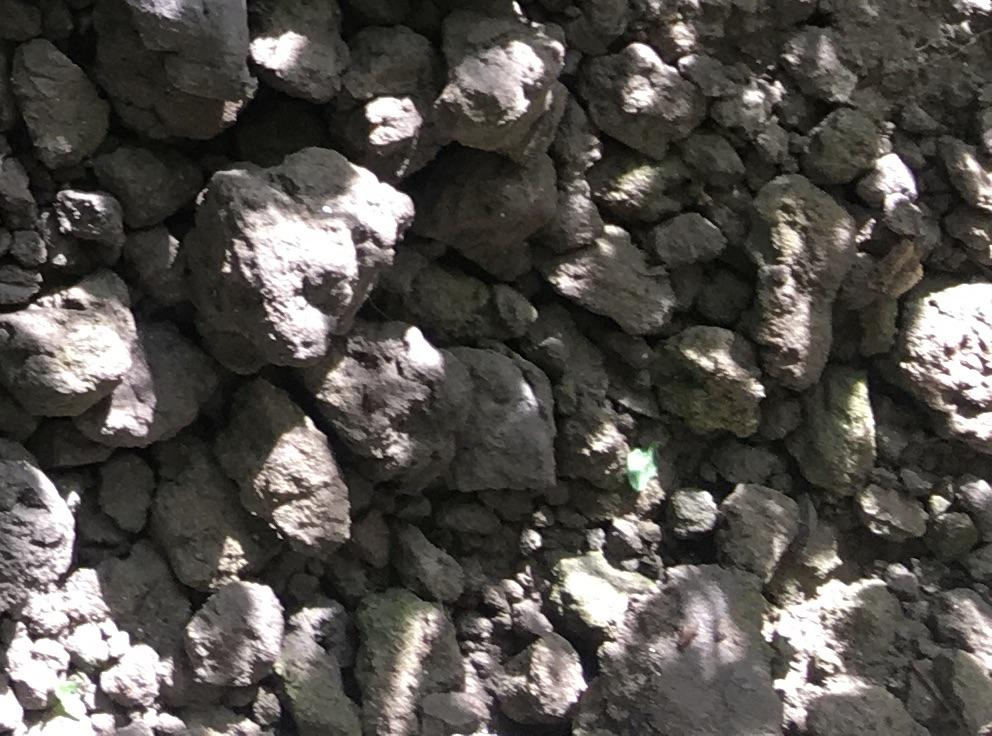block: (183, 144, 412, 376), (300, 313, 453, 497), (747, 168, 859, 399), (213, 373, 351, 560), (439, 12, 570, 166), (1, 304, 140, 416)
